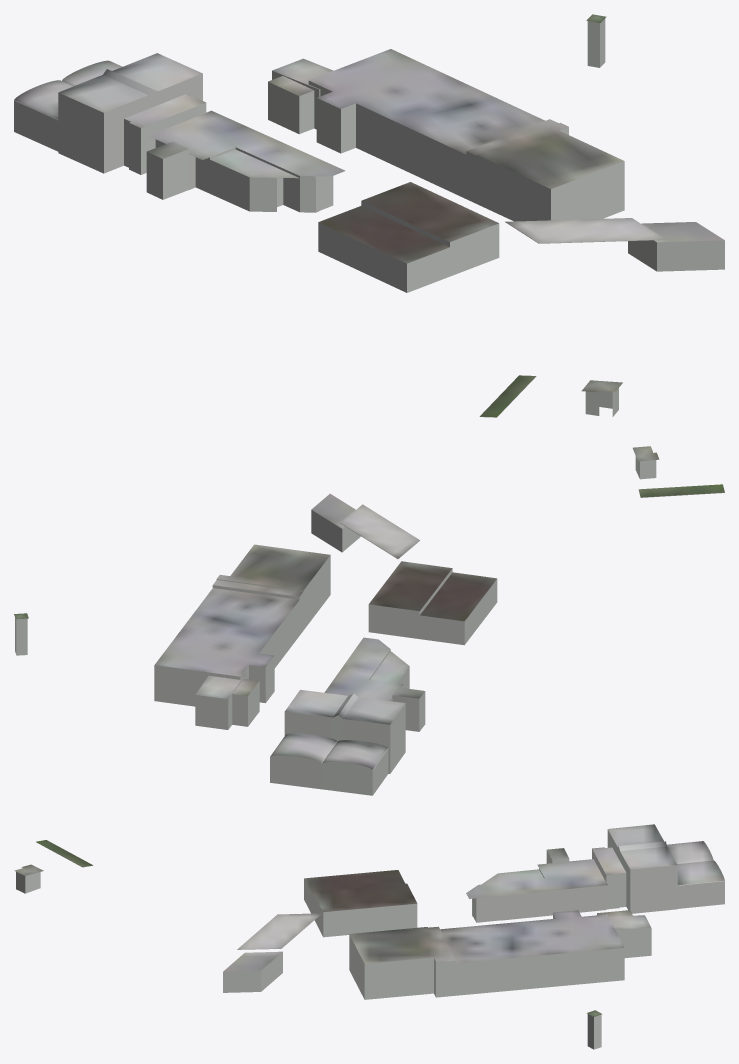
The model's file is LSGG_-4_-3.glb.
3 views of the same model, one above another, from view 1: azimuth 30°, elevation 25°; view 2: azimuth 150°, elevation 25°; view 3: azimuth 270°, elevation 25° (orthographic). The views are drawn at different scales.
Visible parts, largest first — view 1: building_6d6046eca1a332f9, building_4bb480f42bdc990e, building_7878169497995263, building_a7390419e2be2f22; view 2: building_4bb480f42bdc990e, building_6d6046eca1a332f9, building_7878169497995263, building_a7390419e2be2f22; view 3: building_6d6046eca1a332f9, building_4bb480f42bdc990e, building_7878169497995263, building_a7390419e2be2f22.
Part boxes in pixels (x1,y1,x2,y2): building_6d6046eca1a332f9: (14, 18, 624, 221); building_4bb480f42bdc990e: (14, 14, 623, 188); building_7878169497995263: (318, 182, 724, 417); building_a7390419e2be2f22: (318, 201, 724, 417); building_4bb480f42bdc990e: (14, 544, 424, 770); building_6d6046eca1a332f9: (15, 555, 425, 795); building_7878169497995263: (311, 446, 724, 621); building_a7390419e2be2f22: (311, 456, 724, 645); building_6d6046eca1a332f9: (349, 829, 724, 1049); building_4bb480f42bdc990e: (349, 824, 724, 1016); building_7878169497995263: (14, 840, 417, 971); building_a7390419e2be2f22: (16, 842, 417, 992).
Bounding box in the file's own units: 133 × 16.41 × 217.
Materials: 2 (1 with a texture image).
